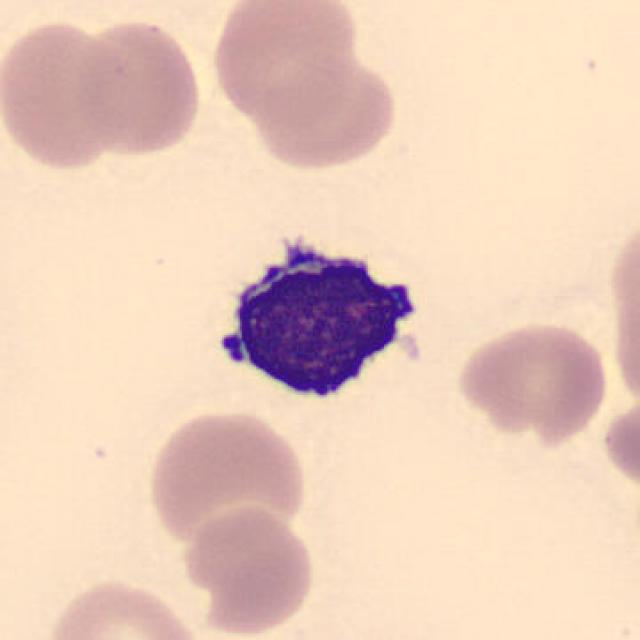Lymphocyte: (197, 222, 439, 414)
RBC: (142, 406, 311, 548), (0, 16, 133, 173), (452, 316, 612, 446), (206, 0, 363, 129), (73, 14, 206, 161), (178, 499, 320, 636), (252, 51, 402, 175), (39, 575, 208, 640), (602, 207, 640, 421), (599, 393, 637, 499)
